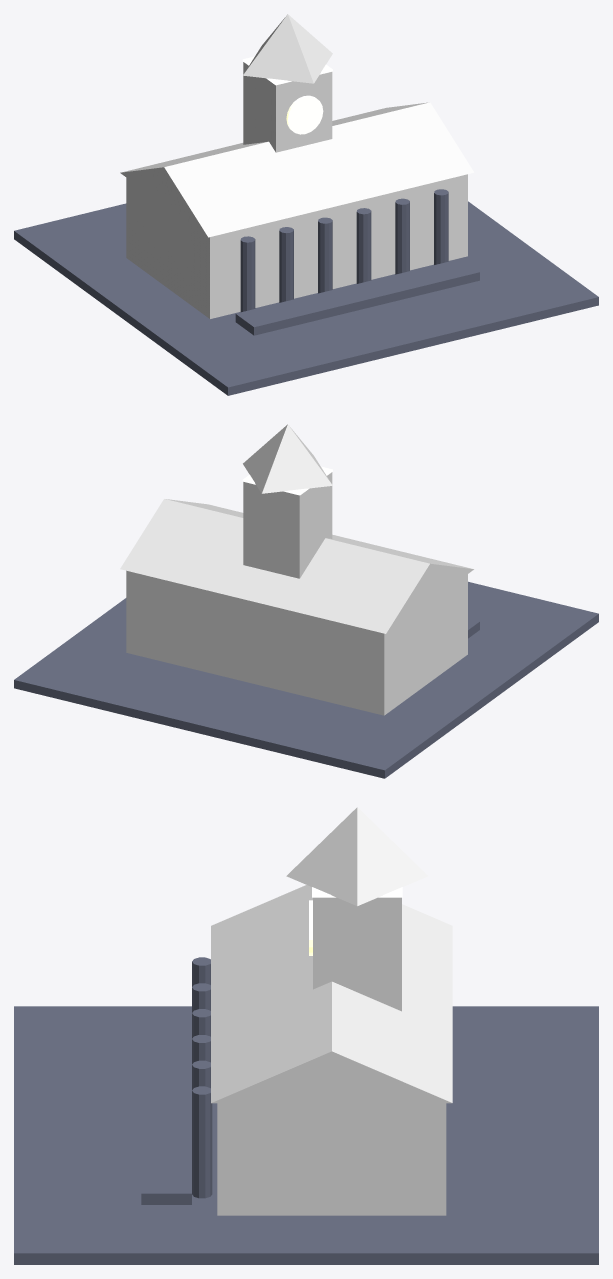
The model's file is venue_community.glb.
The picture shows the model from 3 angles, top to bottom: view 1: azimuth 30°, elevation 25°; view 2: azimuth 150°, elevation 25°; view 3: azimuth 270°, elevation 25°; orthographic projection. The views are drawn at different scales.
Visible parts, largest first — view 1: Plinth, Roof, Hall, Steps, ClockTower, TowerRoof, Column0, Column3, ClockFace, Column4, Column2, Column5 (+1 smaller); view 2: Plinth, Hall, Roof, ClockTower, TowerRoof; view 3: Plinth, Roof, Hall, ClockTower, Steps, TowerRoof, Column5.
Boxes of the visible parts, box(x1,y1,x2,y2) form: Plinth: box(14, 201, 598, 395); Roof: box(120, 102, 473, 237); Hall: box(126, 174, 467, 318); Steps: box(235, 258, 479, 335); ClockTower: box(243, 62, 332, 152); TowerRoof: box(243, 14, 332, 83); Column0: box(240, 236, 255, 312); Column3: box(356, 208, 371, 283); ClockFace: box(286, 95, 323, 134); Column4: box(395, 198, 409, 274); Column2: box(318, 217, 332, 293); Column5: box(434, 189, 448, 264); Plinth: box(14, 581, 598, 778); Hall: box(126, 570, 467, 715); Roof: box(120, 499, 473, 633); ClockTower: box(243, 472, 332, 578); TowerRoof: box(243, 424, 332, 493); Plinth: box(14, 1006, 598, 1264); Roof: box(211, 885, 452, 1103); Hall: box(217, 1103, 446, 1215); ClockTower: box(313, 897, 401, 1011); Steps: box(141, 1043, 191, 1204); TowerRoof: box(286, 807, 428, 906); Column5: box(192, 1086, 212, 1198).
Size of the model in its own units: 46 by 29 by 46.
